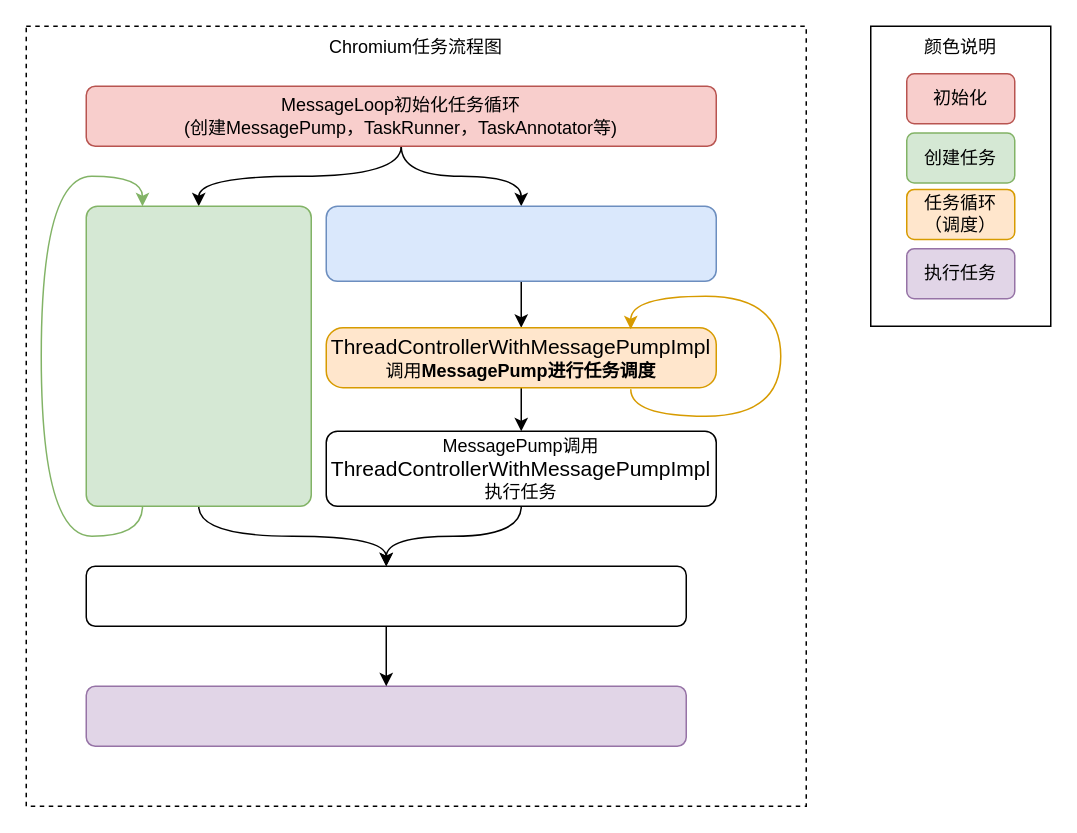
Image size: 1077x833. Some labels were removed from this diagram. Here are the shapes that lost their labels. From the top down, the centre of each, then its label:
At point 520,243: "RunLoop调用 ThreadControllerWithMessagePumpImpl 启动任务循环".
At point 198,355: "任意方调用TaskRunner 创建任务 (任务是以PendingTask类型的对象存在的)".
At point 385,595: "ThreadControllerWithMessagePumpImpl 调用SequencedTaskSource获取任务".
At point 385,715: "ThreadControllerWithMessagePumpImpl 调用TaskAnnotator执行任务".
